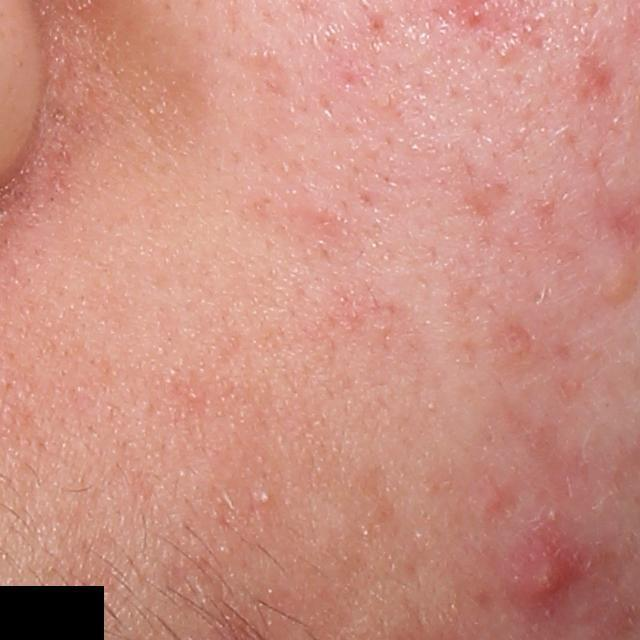comedo: (256, 489, 271, 507)
